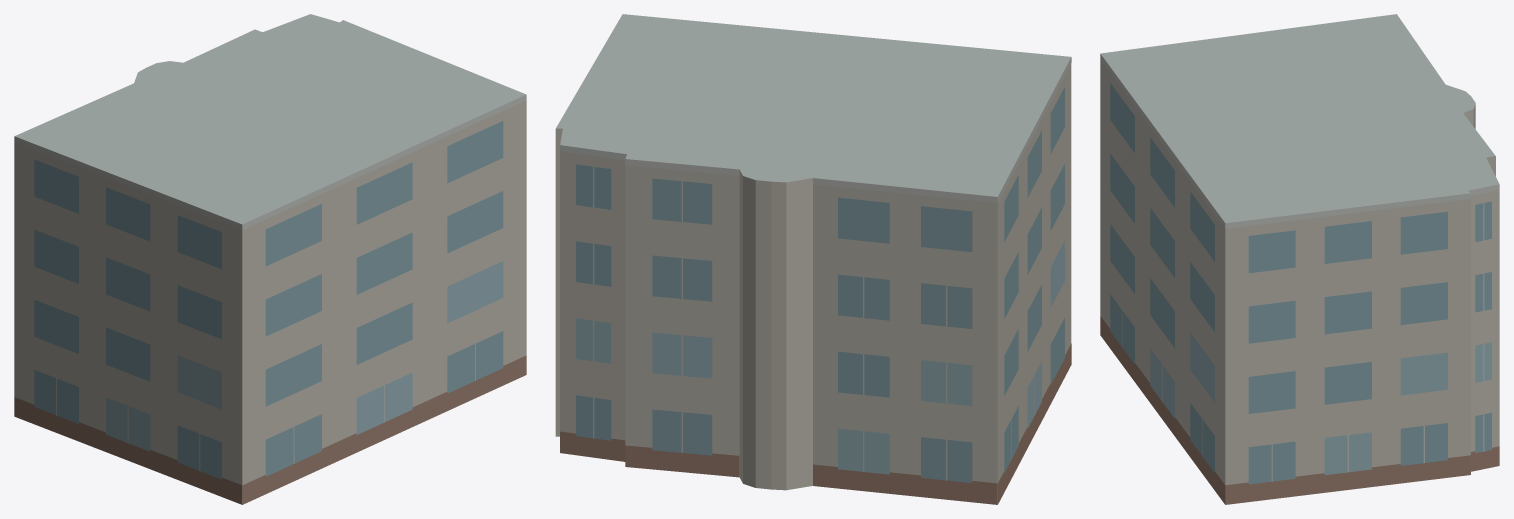
File: survey-upis-32525099.glb
3 renders of one model, left to right at view 1: azimuth 30°, elevation 25°; view 2: azimuth 150°, elevation 25°; view 3: azimuth 270°, elevation 25°, orthographic. The views are drawn at different scales.
Visible parts, largest first — view 1: survey-upis-32525099.tmp; view 2: survey-upis-32525099.tmp; view 3: survey-upis-32525099.tmp.
Part boxes in pixels (<box>): survey-upis-32525099.tmp: <box>14,14,526,504</box>; survey-upis-32525099.tmp: <box>555,14,1071,504</box>; survey-upis-32525099.tmp: <box>1100,14,1499,504</box>.
Bounding box in the file's own units: 19.45 × 12.2 × 15.69.
